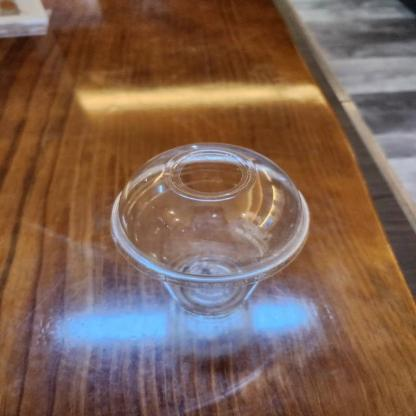Plastic Cup: (99, 140, 315, 290)
